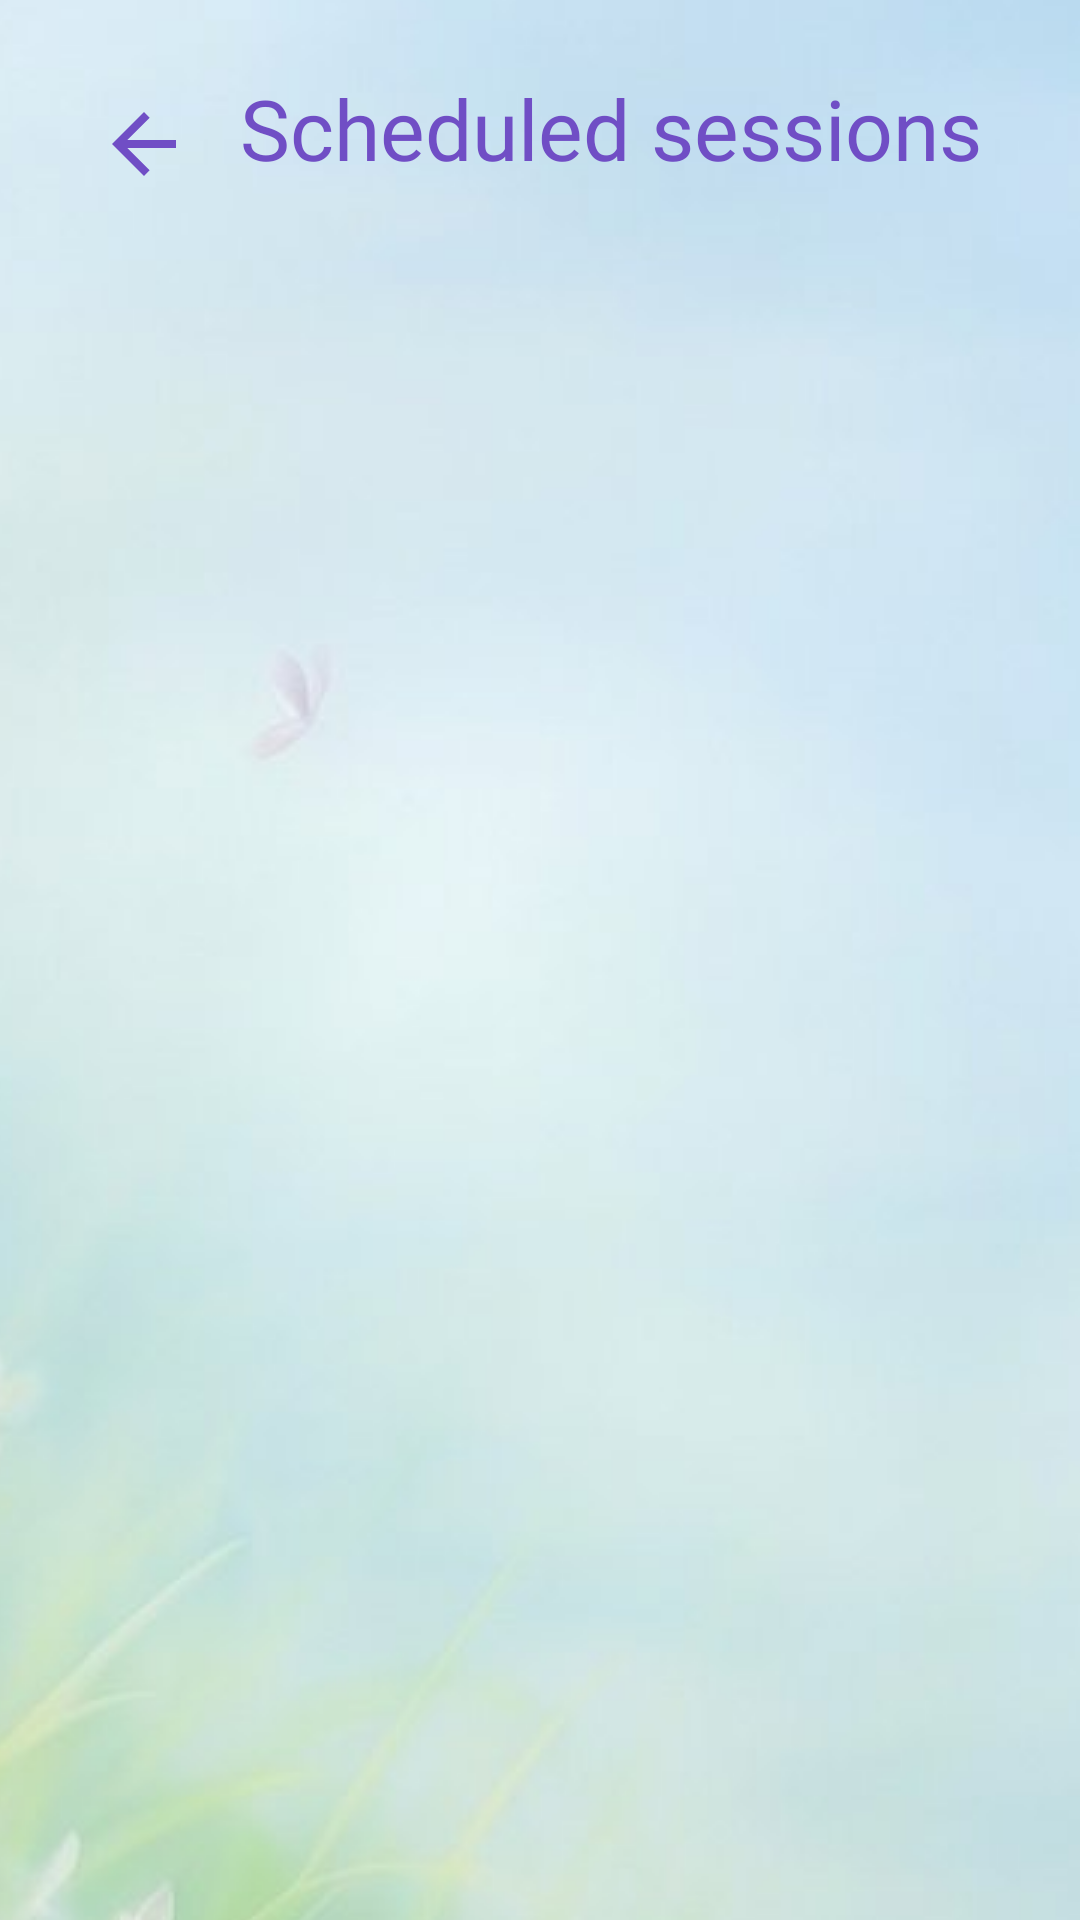

Screen size 1080x1920. Icon name, then its box in pixels as (x1, y1, x2, y2):
Back: (112, 112, 176, 176)
